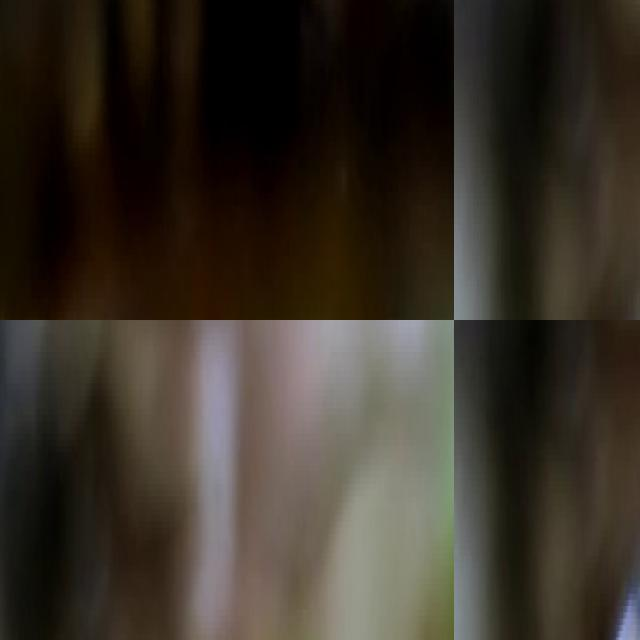fish: (0, 0, 454, 320), (551, 320, 640, 640)
